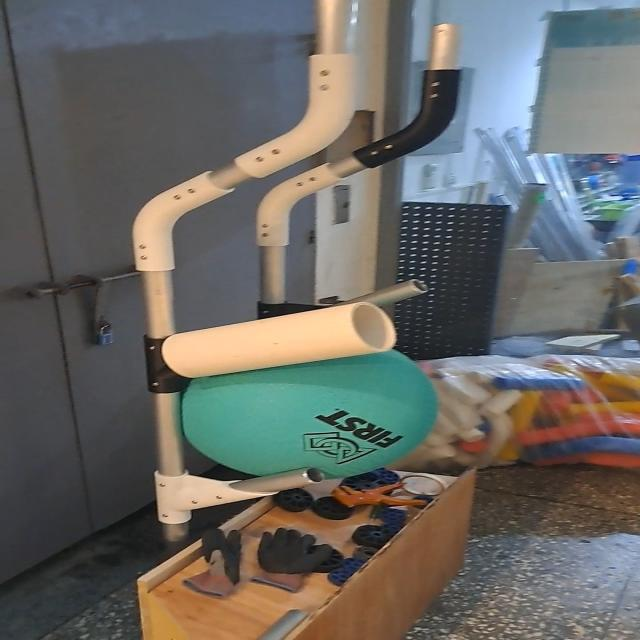ALGAE: (181, 342, 452, 487)
CORAL: (158, 300, 403, 378)
